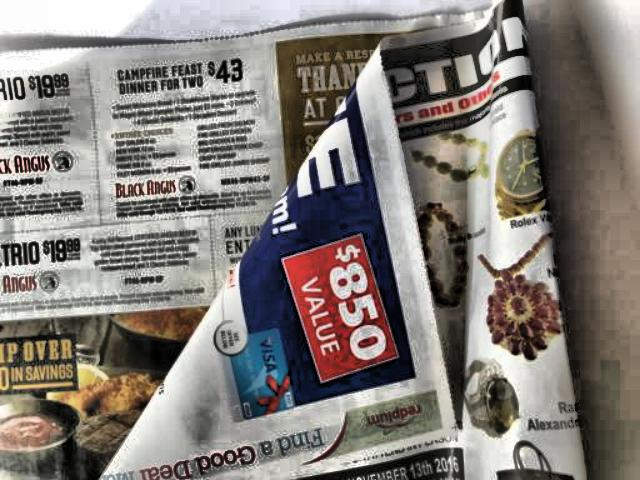Paper: (0, 3, 598, 480)
